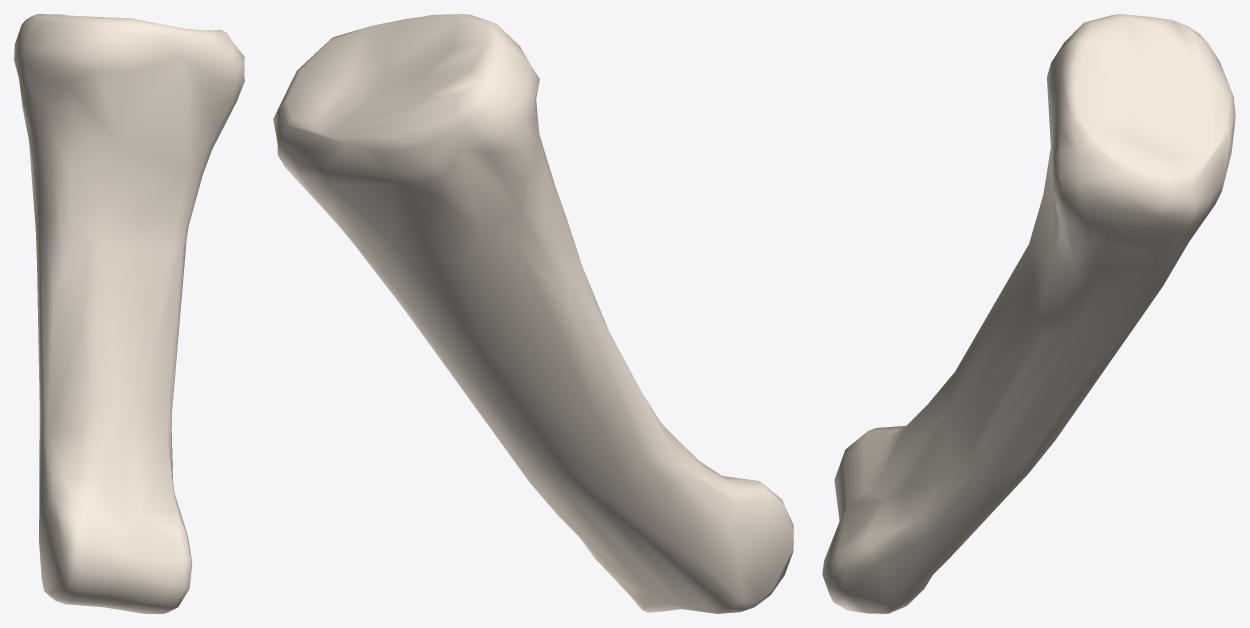
The model's file is right_digit_2_proximal.glb.
3 views of the same model, side by side, from view 1: azimuth 30°, elevation 25°; view 2: azimuth 150°, elevation 25°; view 3: azimuth 270°, elevation 25° (orthographic). The views are drawn at different scales.
Parts seen in each view (by area): view 1: Proximal phalanx of 2d finger.r; view 2: Proximal phalanx of 2d finger.r; view 3: Proximal phalanx of 2d finger.r.
Part boxes in pixels (x1,y1,x2,y2): Proximal phalanx of 2d finger.r: [14, 14, 244, 613]; Proximal phalanx of 2d finger.r: [273, 14, 793, 613]; Proximal phalanx of 2d finger.r: [822, 14, 1235, 613].
Bounding box in the file's own units: 0.0223 × 0.0389 × 0.0237.
